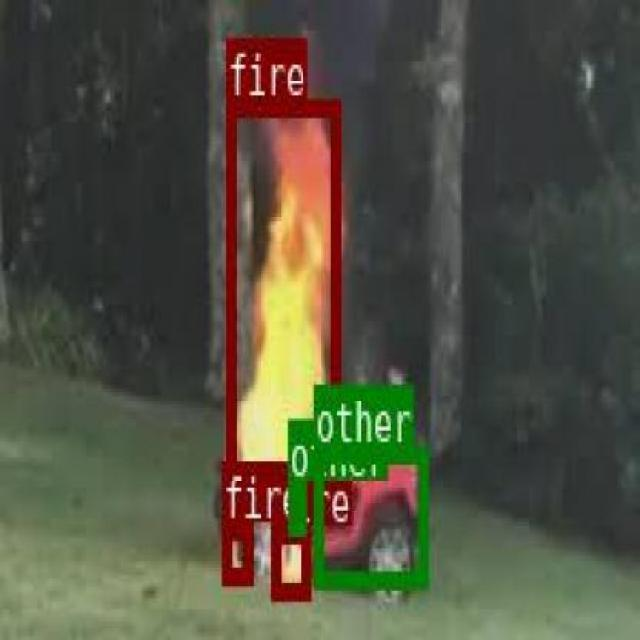Fire: (223, 96, 339, 496), (270, 522, 308, 596), (221, 518, 250, 582)
